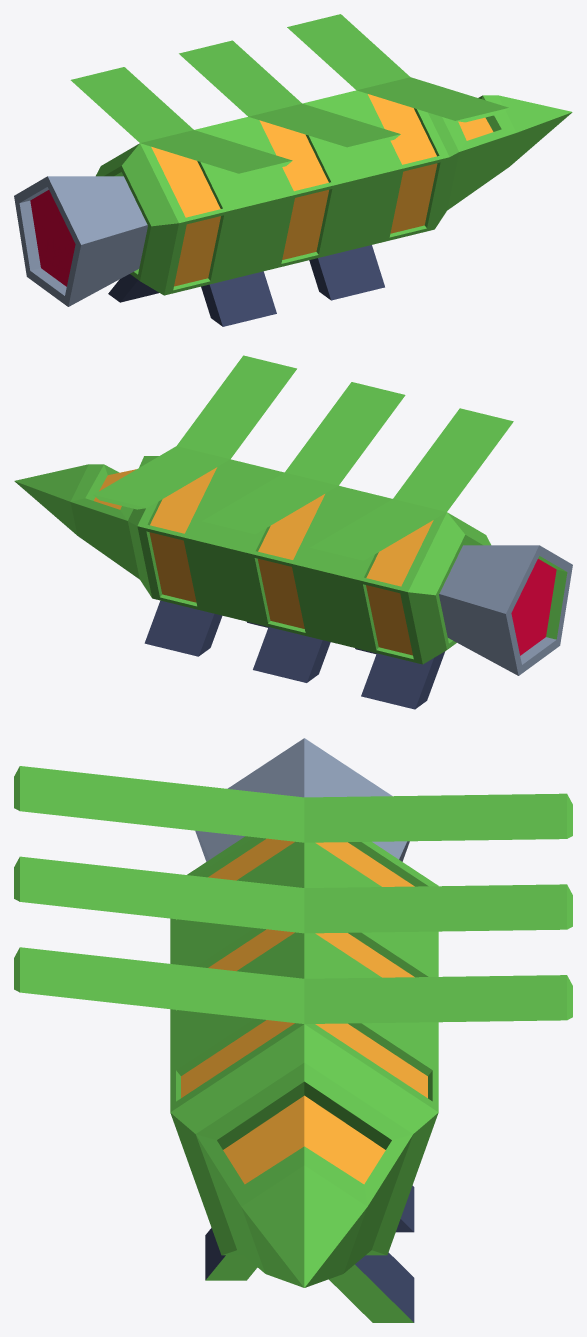
The model's file is Ship.fbx.
3 views of the same model, one above another, from view 1: azimuth 30°, elevation 25°; view 2: azimuth 150°, elevation 25°; view 3: azimuth 270°, elevation 25° (orthographic). The views are drawn at different scales.
Parts seen in each view (by area): view 1: BugShip; view 2: BugShip; view 3: BugShip.
Part boxes in pixels (left/top/right/bottom): BugShip: left=14, top=14, right=572, bottom=326; BugShip: left=14, top=355, right=572, bottom=709; BugShip: left=14, top=738, right=572, bottom=1322.
Size of the model in its own units: 738 by 271 by 396.
